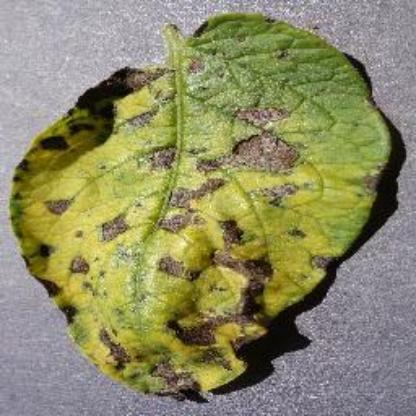Early-Blight: (9, 4, 410, 412)
